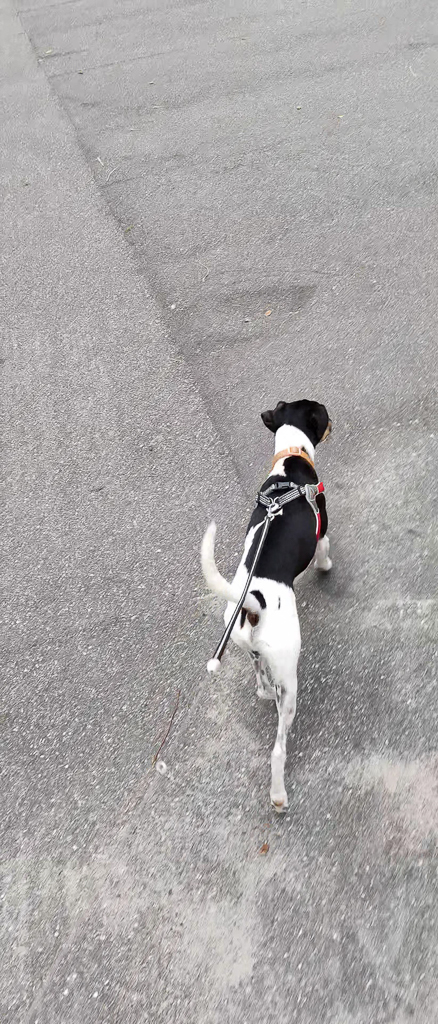Dog: (178, 387, 363, 831)
